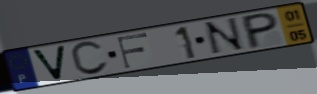1: (173, 24, 199, 60)
C: (68, 40, 111, 77)
F: (115, 31, 150, 71)
N: (201, 16, 248, 57)
P: (242, 11, 280, 51)
V: (29, 44, 68, 82)
